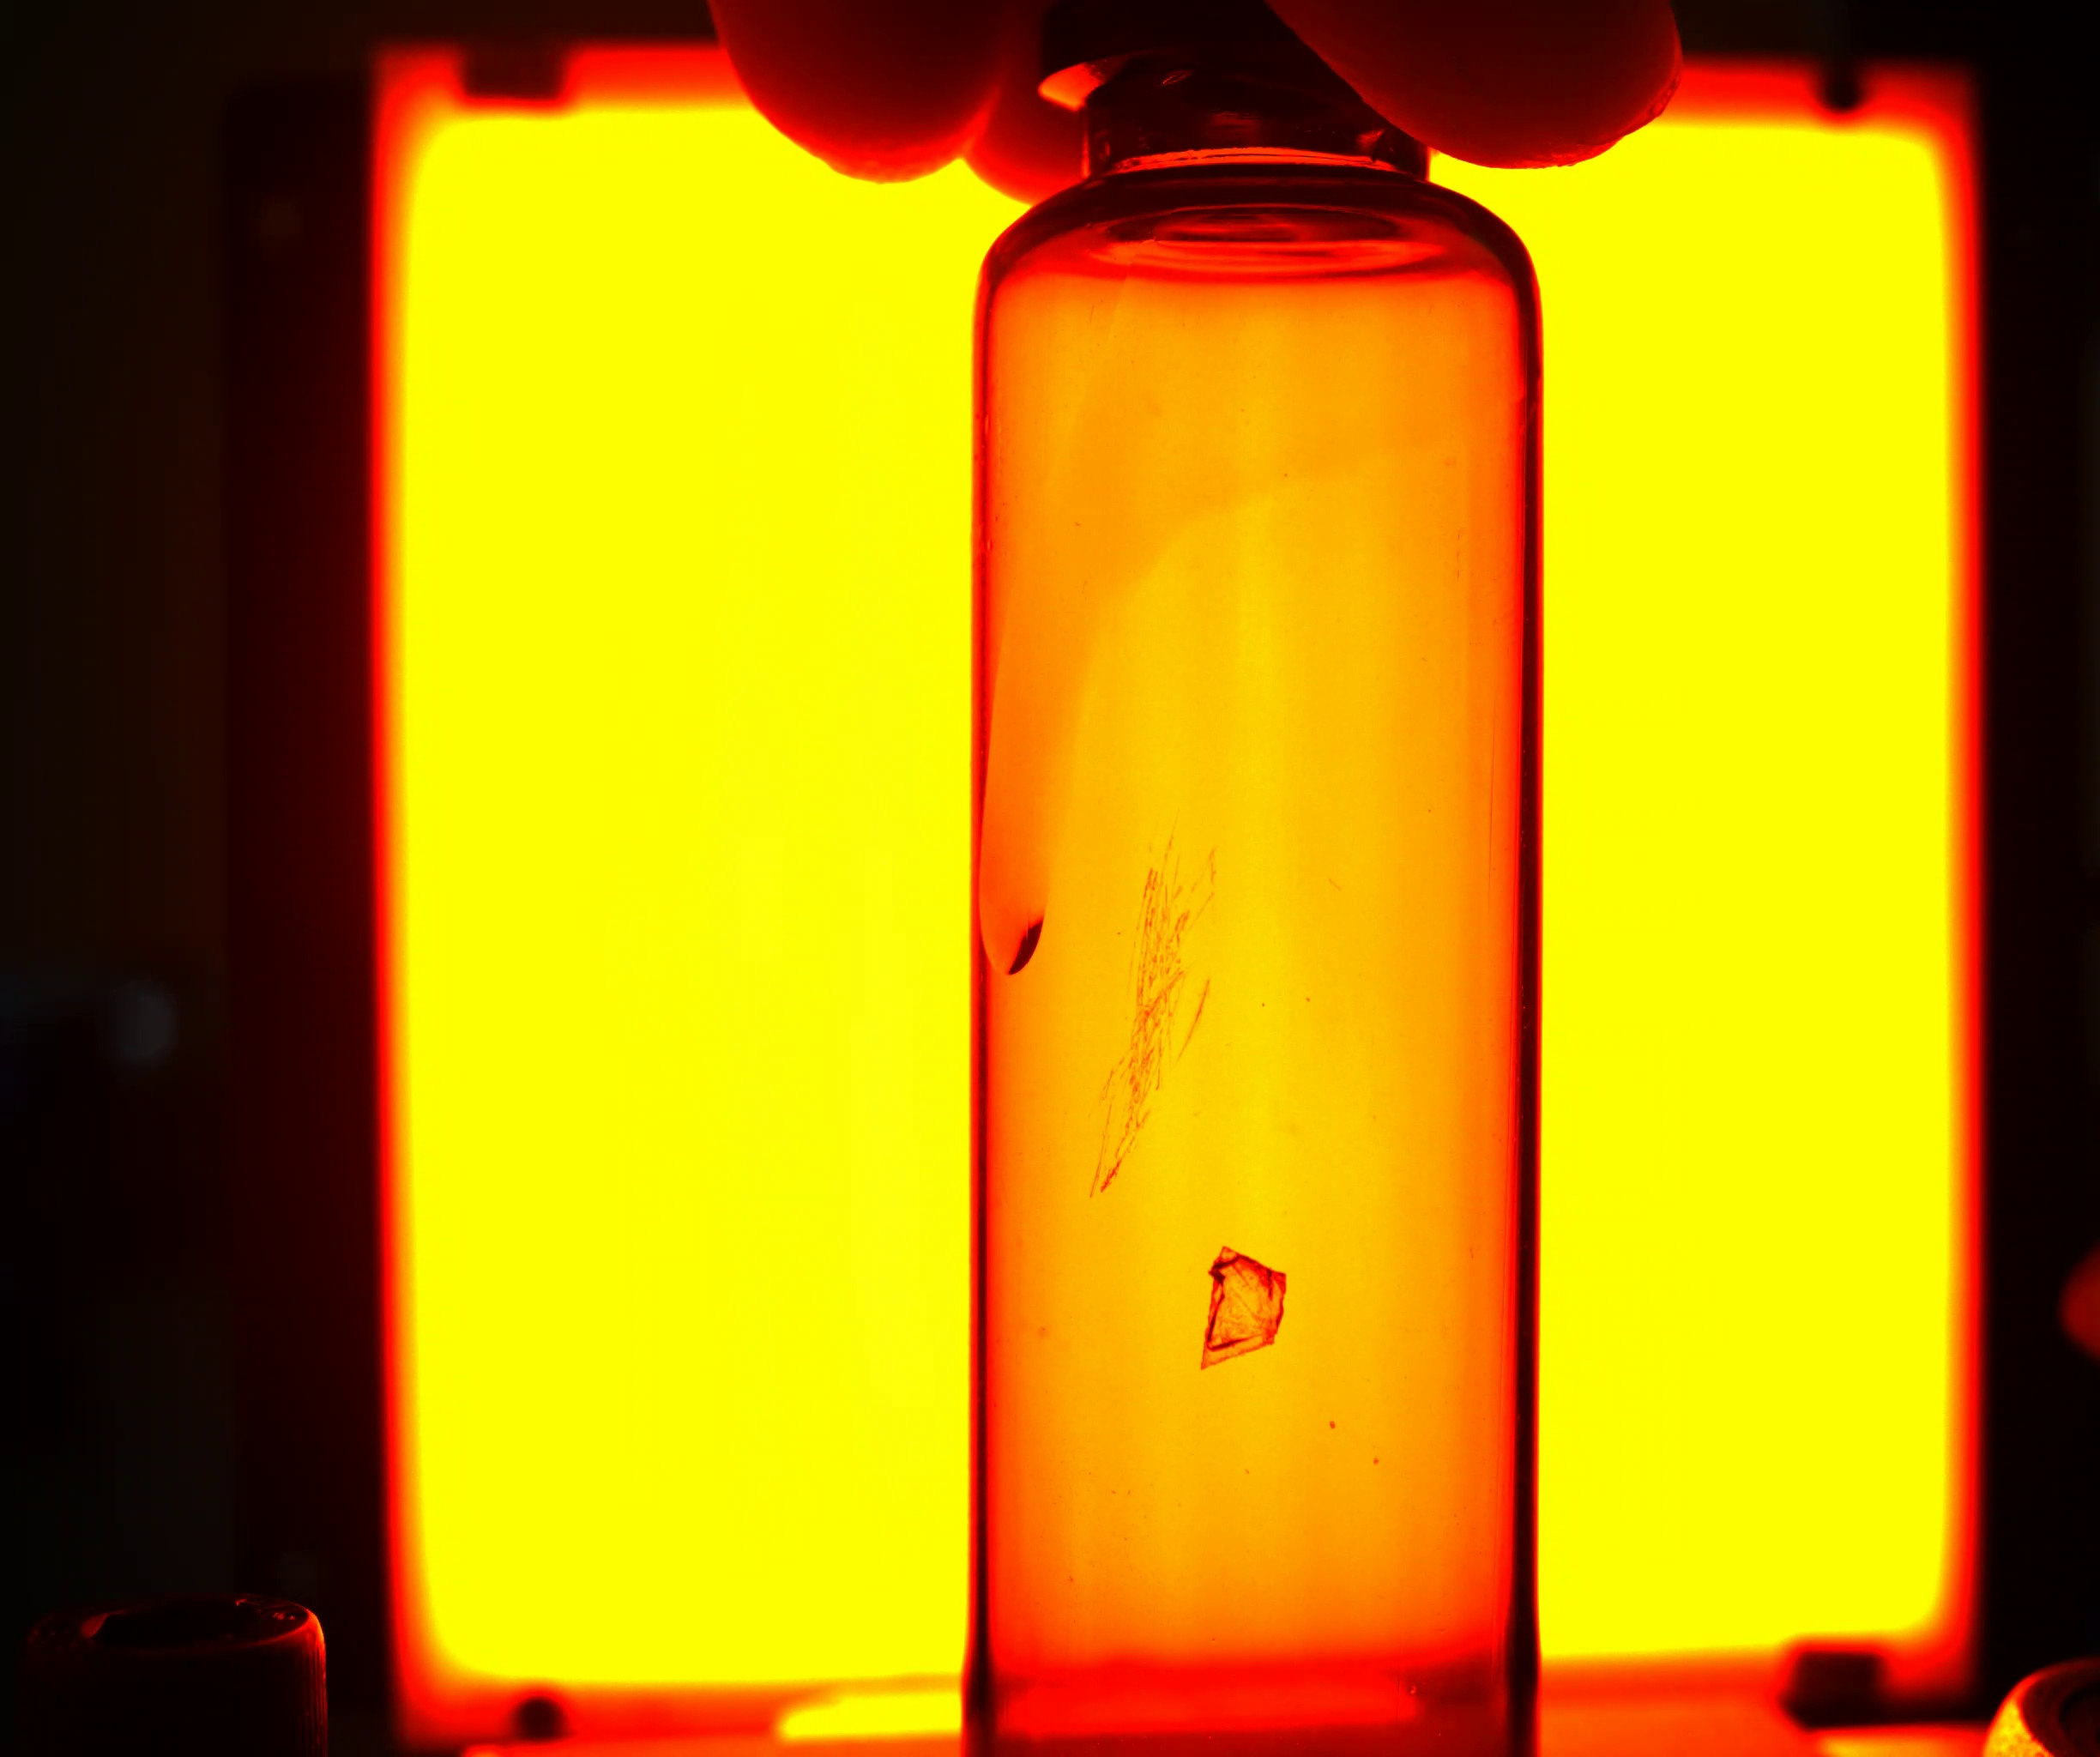scratch: (1087, 871, 1209, 1216)
thorny: (1198, 1246, 1291, 1373)
